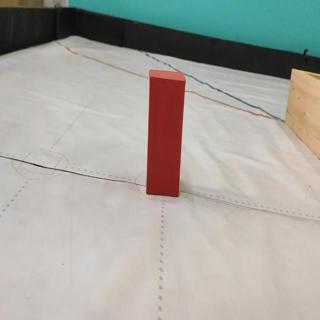redbox: (146, 67, 186, 198)
